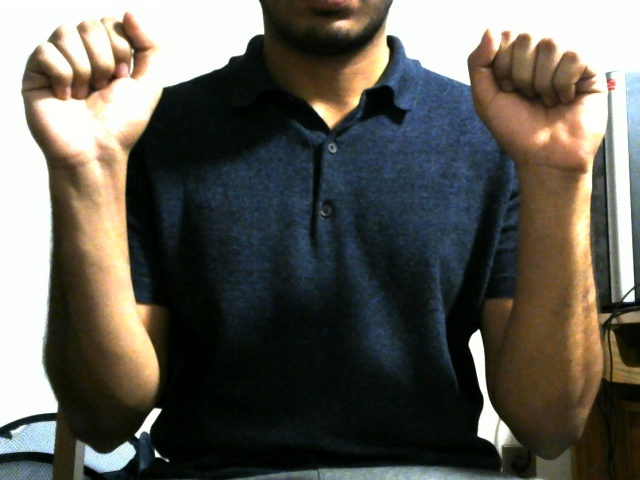can: (11, 9, 628, 459)
